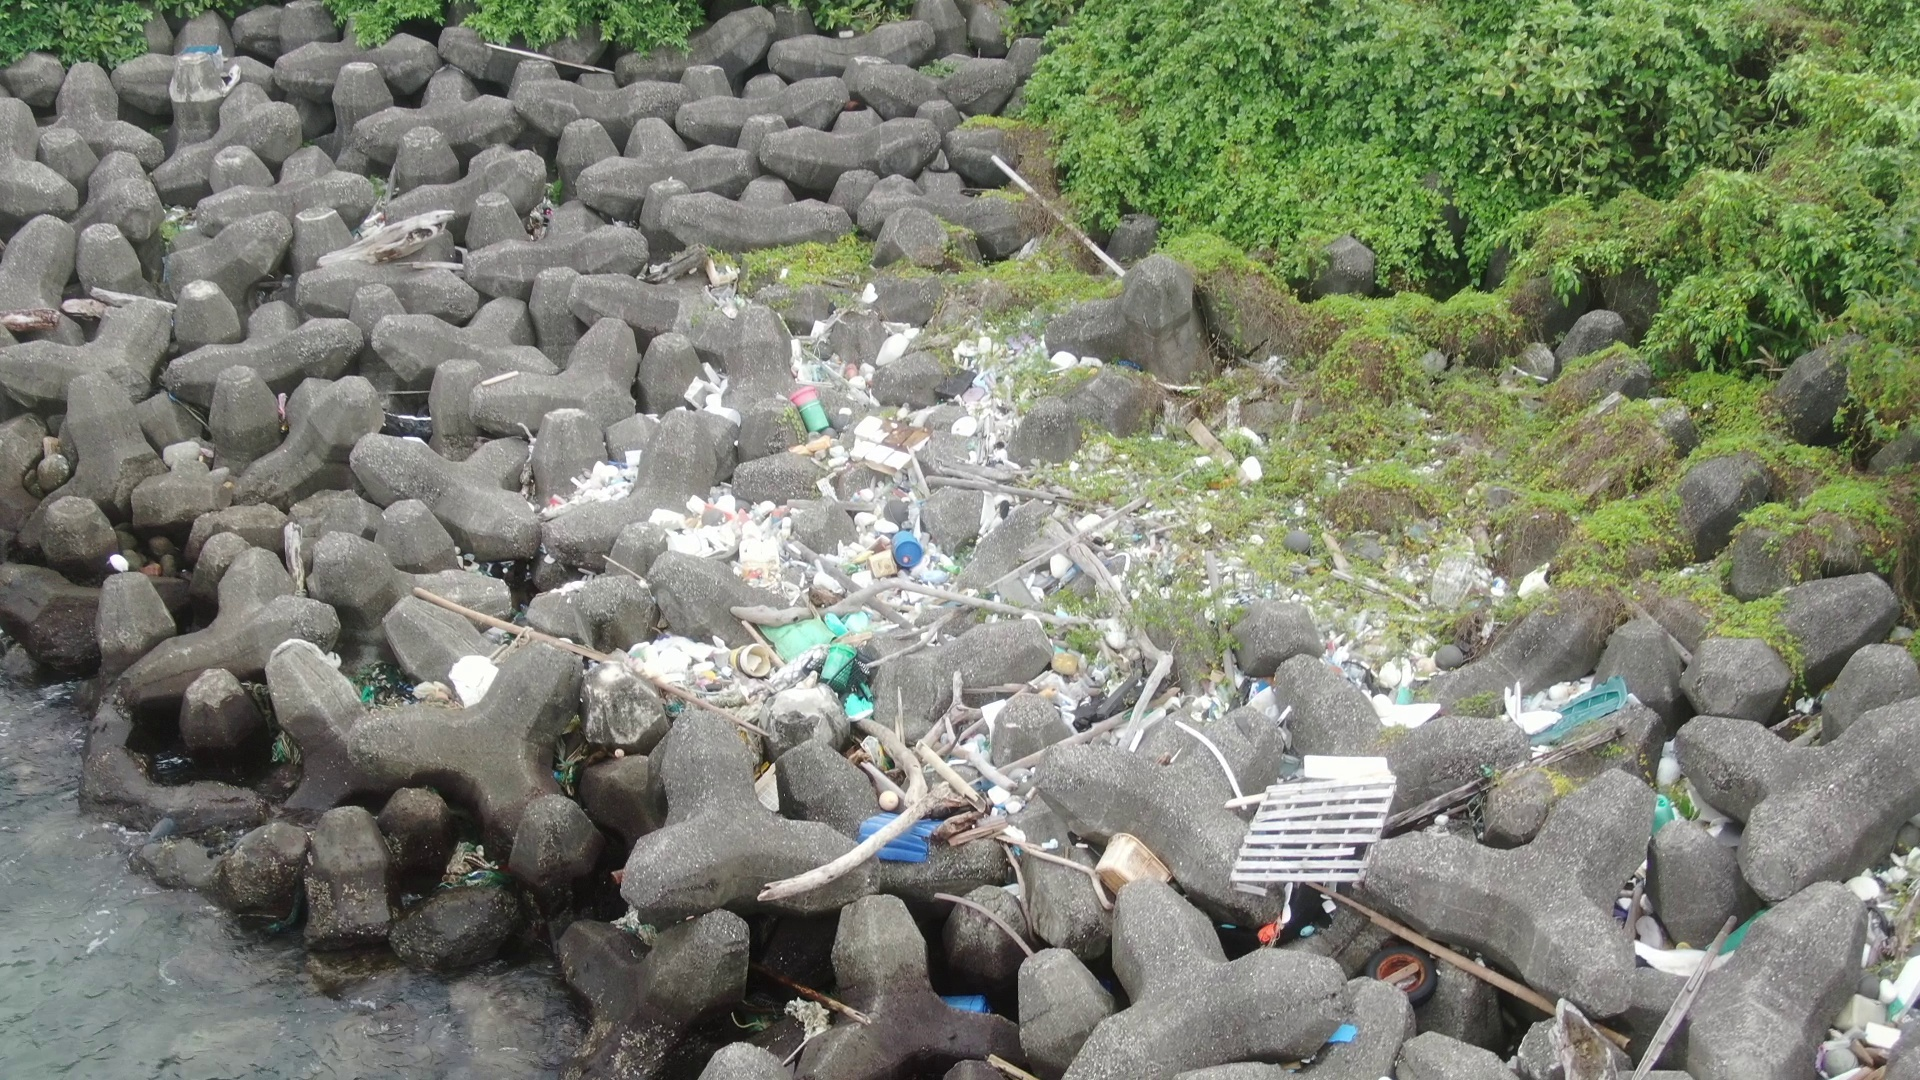garbage: (628, 597, 1408, 911), (556, 258, 1266, 588), (1232, 913, 1462, 1056), (1611, 783, 1771, 978), (1498, 659, 1648, 752), (1825, 936, 1920, 1079), (753, 978, 855, 1065), (436, 833, 506, 895), (349, 659, 419, 709), (549, 727, 591, 806), (936, 981, 996, 1019), (255, 724, 305, 764), (177, 40, 225, 73)
